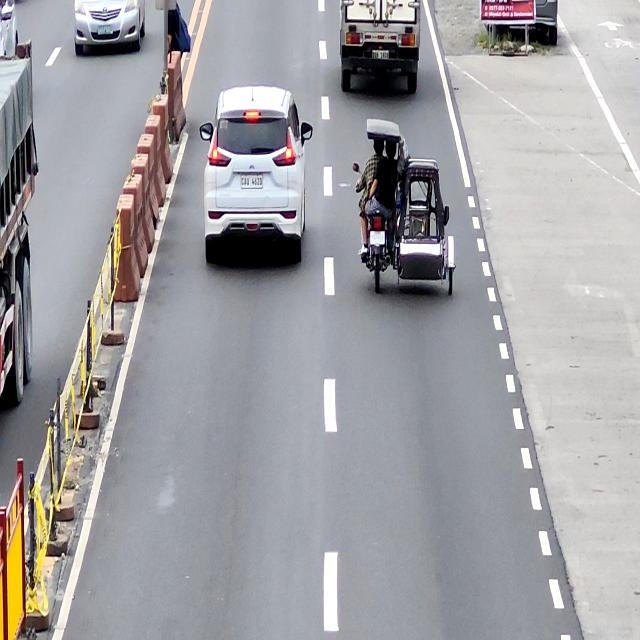Car: (201, 86, 312, 262)
License-Plate: (240, 174, 263, 189), (370, 231, 384, 245), (371, 50, 389, 60)
Tricycle: (354, 118, 456, 298)
Truck: (340, 0, 420, 97)
